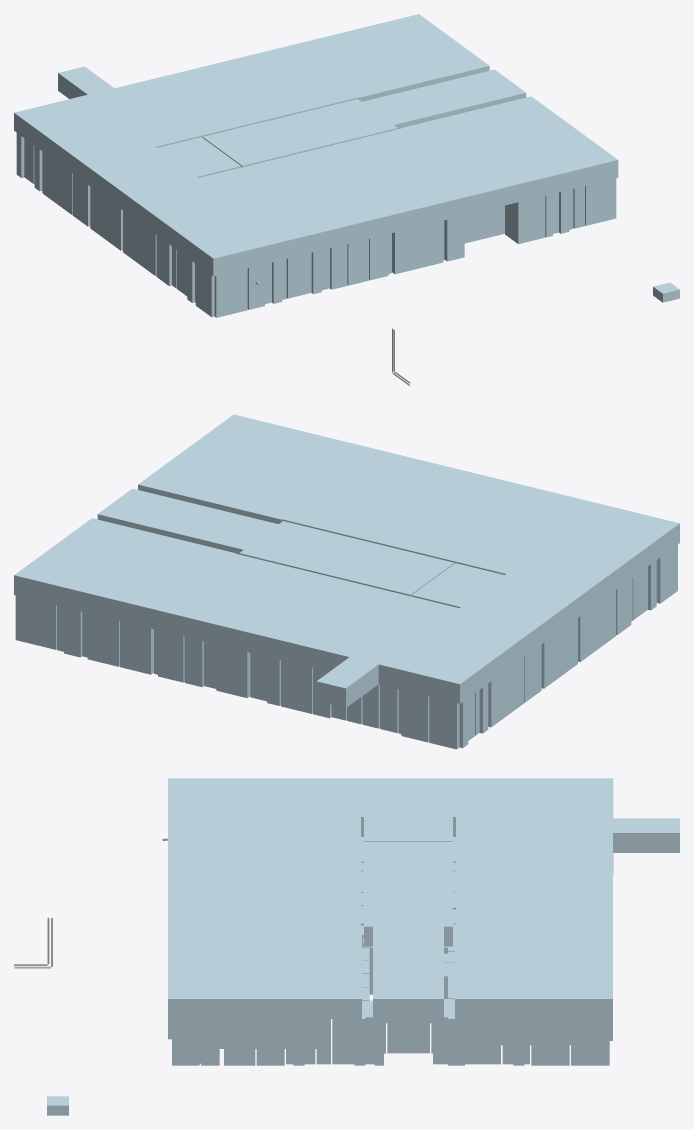
The picture shows the model from 3 angles, top to bottom: view 1: azimuth 30°, elevation 25°; view 2: azimuth 150°, elevation 25°; view 3: azimuth 270°, elevation 25°; orthographic projection. The views are drawn at different scales.
Visible parts, largest first — view 1: 0fnMpz1HLFAOQuQ9iNuvg$, 0fnMpz1HLFAOQuQ9iNuvgm, 0fnMpz1HLFAOQuQ9iNuvgr, 22wRXcsxb3fOQ$v31Iubl0, 22wRXcsxb3fOQ$v31Iubfl, 22wRXcsxb3fOQ$v31IubgE, 22wRXcsxb3fOQ$v31IublL, 22wRXcsxb3fOQ$v31Iubfo, 22wRXcsxb3fOQ$v31IubgT, 22wRXcsxb3fOQ$v31Iubfx, 22wRXcsxb3fOQ$v31Iubfr, 22wRXcsxb3fOQ$v31Iubff (+9 smaller); view 2: 0fnMpz1HLFAOQuQ9iNuvg$, 0fnMpz1HLFAOQuQ9iNuvgm, 0fnMpz1HLFAOQuQ9iNuvgr, 22wRXcsxb3fOQ$v31Iubl0, 22wRXcsxb3fOQ$v31IublL, 22wRXcsxb3fOQ$v31Iubj7, 22wRXcsxb3fOQ$v31Iubkx, 22wRXcsxb3fOQ$v31Iubki, 22wRXcsxb3fOQ$v31IubkZ, 22wRXcsxb3fOQ$v31IubkW, 22wRXcsxb3fOQ$v31Iubkf, 22wRXcsxb3fOQ$v31Iubko (+10 smaller); view 3: 0fnMpz1HLFAOQuQ9iNuvg$, 0fnMpz1HLFAOQuQ9iNuvgm, 0fnMpz1HLFAOQuQ9iNuvgr, 22wRXcsxb3fOQ$v31IubkK, 22wRXcsxb3fOQ$v31IubeG, 22wRXcsxb3fOQ$v31Iubkx, 22wRXcsxb3fOQ$v31IubkQ, 22wRXcsxb3fOQ$v31Iubet, 22wRXcsxb3fOQ$v31Iube1, 22wRXcsxb3fOQ$v31Iube7, 22wRXcsxb3fOQ$v31Iube4, 22wRXcsxb3fOQ$v31Iubfx (+3 smaller).
Part boxes in pixels (<box>): 0fnMpz1HLFAOQuQ9iNuvg$: <box>14,14,618,276</box>; 0fnMpz1HLFAOQuQ9iNuvgm: <box>305,69,526,142</box>; 0fnMpz1HLFAOQuQ9iNuvgr: <box>202,112,344,167</box>; 22wRXcsxb3fOQ$v31Iubl0: <box>72,174,156,275</box>; 22wRXcsxb3fOQ$v31Iubfl: <box>392,220,444,274</box>; 22wRXcsxb3fOQ$v31IubgE: <box>195,264,247,317</box>; 22wRXcsxb3fOQ$v31IublL: <box>34,146,72,214</box>; 22wRXcsxb3fOQ$v31Iubfo: <box>505,196,545,243</box>; 22wRXcsxb3fOQ$v31IubgT: <box>286,250,321,298</box>; 22wRXcsxb3fOQ$v31Iubfx: <box>585,178,616,225</box>; 22wRXcsxb3fOQ$v31Iubfr: <box>545,189,573,237</box>; 22wRXcsxb3fOQ$v31Iubff: <box>464,205,504,243</box>; 0fnMpz1HLFAOQuQ9iNuvg$: <box>14,414,679,707</box>; 0fnMpz1HLFAOQuQ9iNuvgm: <box>97,488,341,568</box>; 0fnMpz1HLFAOQuQ9iNuvgr: <box>298,535,454,596</box>; 22wRXcsxb3fOQ$v31Iubl0: <box>524,590,615,702</box>; 22wRXcsxb3fOQ$v31IublL: <box>475,657,523,735</box>; 22wRXcsxb3fOQ$v31Iubj7: <box>429,693,474,749</box>; 22wRXcsxb3fOQ$v31Iubkx: <box>15,595,56,649</box>; 22wRXcsxb3fOQ$v31Iubki: <box>216,644,250,698</box>; 22wRXcsxb3fOQ$v31IubkZ: <box>120,621,153,674</box>; 22wRXcsxb3fOQ$v31IubkW: <box>87,613,119,666</box>; 22wRXcsxb3fOQ$v31Iubkf: <box>184,637,216,688</box>; 22wRXcsxb3fOQ$v31Iubko: <box>281,660,312,713</box>; 0fnMpz1HLFAOQuQ9iNuvg$: <box>168,778,679,1018</box>; 0fnMpz1HLFAOQuQ9iNuvgm: <box>364,897,452,1018</box>; 0fnMpz1HLFAOQuQ9iNuvgr: <box>364,842,452,897</box>; 22wRXcsxb3fOQ$v31IubkK: <box>431,999,500,1065</box>; 22wRXcsxb3fOQ$v31IubeG: <box>332,1000,385,1065</box>; 22wRXcsxb3fOQ$v31Iubkx: <box>571,1019,609,1065</box>; 22wRXcsxb3fOQ$v31IubkQ: <box>531,1019,569,1065</box>; 22wRXcsxb3fOQ$v31Iubet: <box>386,1019,431,1053</box>; 22wRXcsxb3fOQ$v31Iube1: <box>224,1019,255,1065</box>; 22wRXcsxb3fOQ$v31Iube7: <box>286,1019,315,1065</box>; 22wRXcsxb3fOQ$v31Iube4: <box>256,1019,284,1065</box>; 22wRXcsxb3fOQ$v31Iubfx: <box>172,1019,199,1065</box>.
Bounding box in the file's own units: 48.11 × 12.04 × 60.24.
